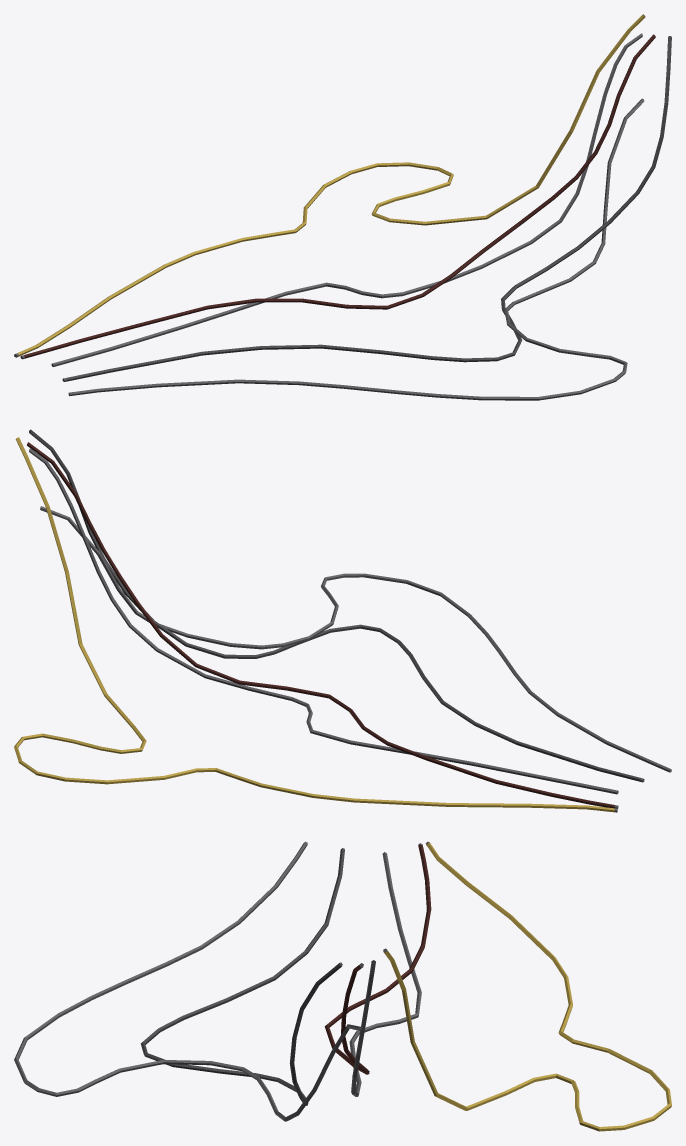
The model's file is SM_Prop_ChargingCables_01.fbx.
The picture shows the model from 3 angles, top to bottom: view 1: azimuth 30°, elevation 25°; view 2: azimuth 150°, elevation 25°; view 3: azimuth 270°, elevation 25°; orthographic projection. The views are drawn at different scales.
Parts seen in each view (by area): view 1: SM_Prop_ChargingCables_01; view 2: SM_Prop_ChargingCables_01; view 3: SM_Prop_ChargingCables_01.
Boxes of the visible parts, left/top/right/bottom form: SM_Prop_ChargingCables_01: left=14, top=14, right=671, bottom=400; SM_Prop_ChargingCables_01: left=14, top=429, right=671, bottom=812; SM_Prop_ChargingCables_01: left=14, top=841, right=671, bottom=1131.
Bounding box in the file's own units: 1197 × 385 × 958.
